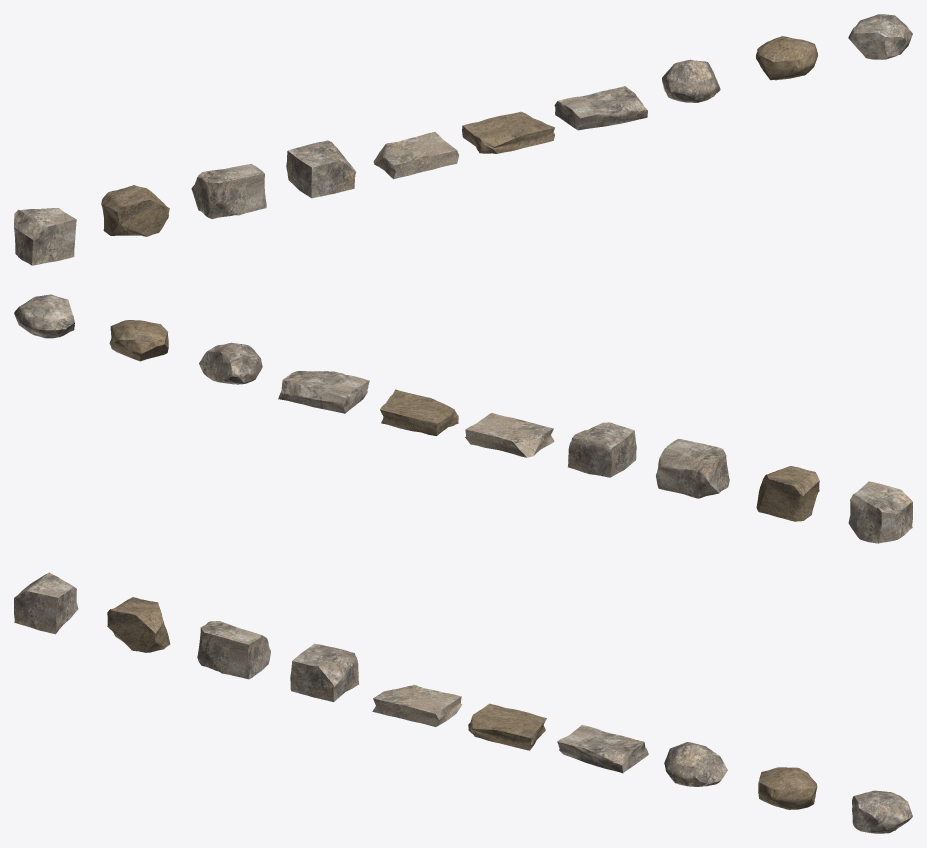
The model's file is rocas-granito-m.glb.
The picture shows the model from 3 angles, top to bottom: view 1: azimuth 30°, elevation 25°; view 2: azimuth 150°, elevation 25°; view 3: azimuth 330°, elevation 25°; orthographic projection.
Visible parts, largest first — view 1: roca2, roca0, roca3, roca1, roca6, roca5, roca4, roca9, roca8, roca7; view 2: roca2, roca0, roca3, roca6, roca1, roca4, roca5, roca7, roca9, roca8; view 3: roca2, roca3, roca0, roca6, roca4, roca1, roca5, roca7, roca9, roca8.
Part boxes in pixels (x1=…): roca2: x1=191, y1=163, x2=266, y2=218; roca0: x1=14, y1=208, x2=76, y2=265; roca3: x1=286, y1=140, x2=356, y2=198; roca1: x1=101, y1=185, x2=169, y2=236; roca6: x1=554, y1=86, x2=647, y2=130; roca5: x1=462, y1=111, x2=554, y2=153; roca4: x1=373, y1=132, x2=458, y2=179; roca9: x1=848, y1=14, x2=912, y2=59; roca8: x1=756, y1=36, x2=817, y2=80; roca7: x1=662, y1=59, x2=720, y2=102; roca2: x1=656, y1=439, x2=729, y2=498; roca0: x1=848, y1=481, x2=912, y2=543; roca3: x1=568, y1=422, x2=636, y2=477; roca6: x1=278, y1=371, x2=369, y2=413; roca1: x1=756, y1=466, x2=819, y2=521; roca4: x1=465, y1=413, x2=554, y2=457; roca5: x1=380, y1=389, x2=458, y2=435; roca7: x1=199, y1=342, x2=262, y2=384; roca9: x1=14, y1=294, x2=74, y2=338; roca8: x1=109, y1=320, x2=168, y2=361; roca2: x1=197, y1=621, x2=270, y2=679; roca3: x1=290, y1=643, x2=358, y2=701; roca0: x1=14, y1=572, x2=78, y2=634; roca6: x1=557, y1=725, x2=648, y2=773; roca4: x1=372, y1=684, x2=462, y2=726; roca1: x1=107, y1=597, x2=170, y2=652; roca5: x1=468, y1=703, x2=546, y2=750; roca7: x1=664, y1=742, x2=727, y2=786; roca9: x1=852, y1=790, x2=912, y2=833; roca8: x1=758, y1=767, x2=817, y2=809.
Bounding box in the file's own units: 19.13 × 0.7894 × 1.11.
2 materials, 2 textured.
